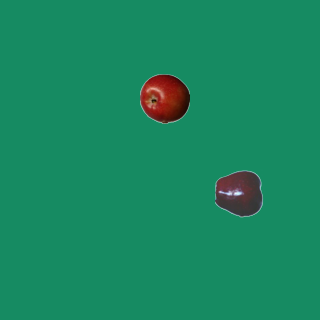Apple Braeburn: (139, 73, 189, 123)
Apple Red Delicious: (214, 168, 264, 218)
